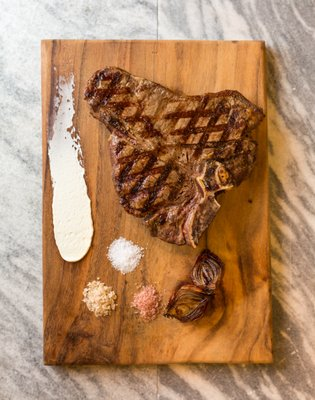salad: (81, 65, 263, 250)
